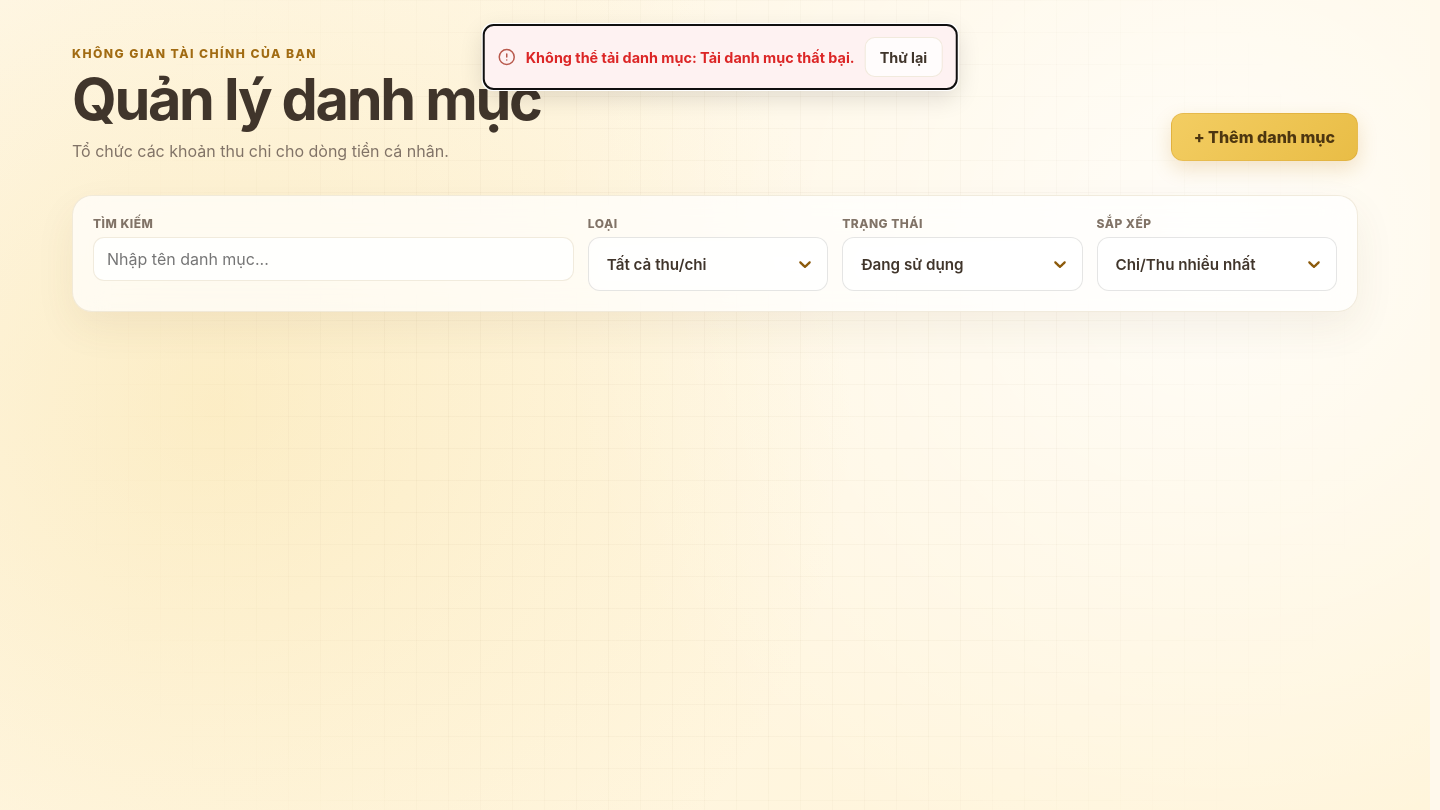
Test: Categories page › retries the category list after an initial loading failure
Expected: the message shows "Tải danh mục thất bại.", x1=700 y1=48 x2=855 y2=66
Step 1. Click the button "Thử lại" → (903, 57), box x1=865 y1=37 x2=942 y2=77
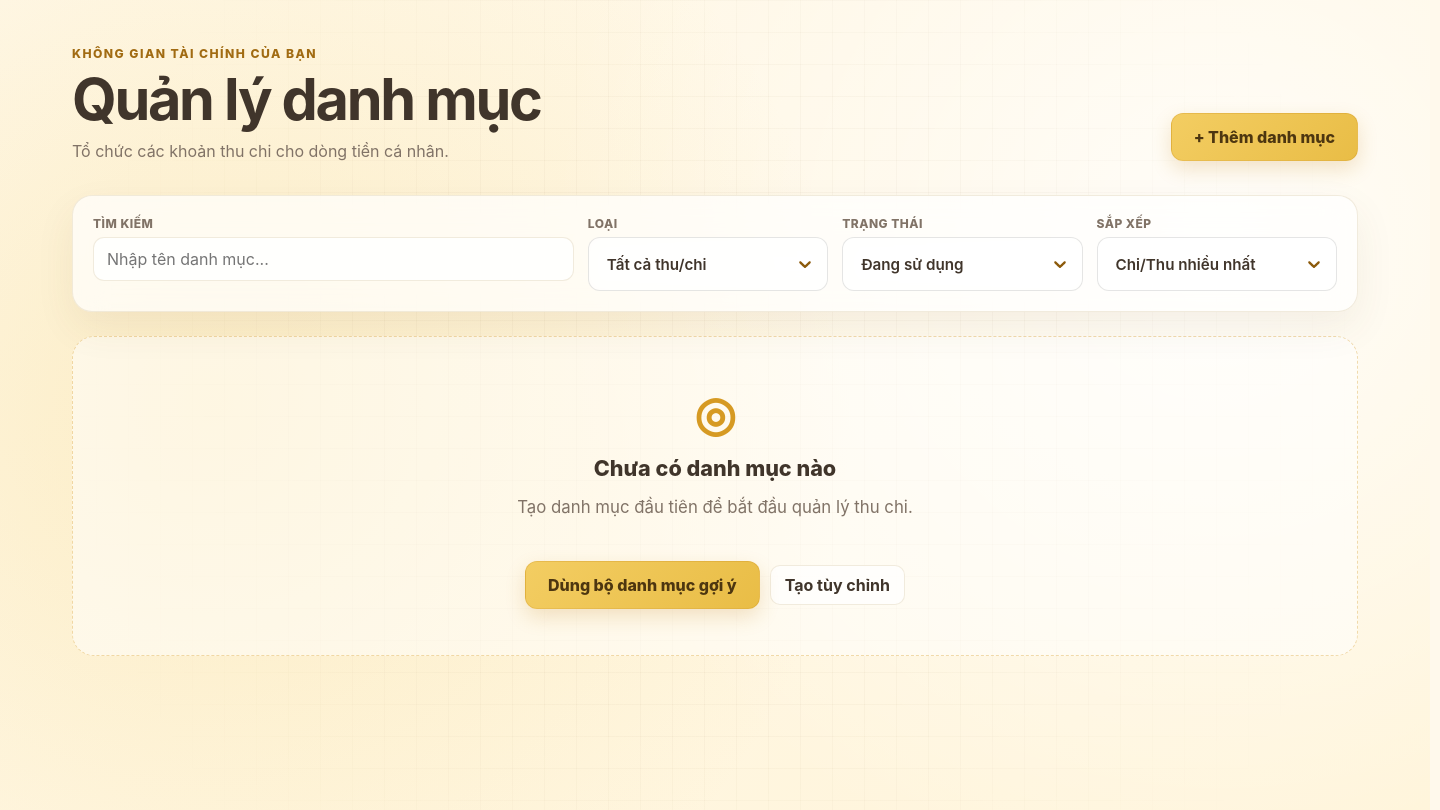
Expected: the heading "Chưa có danh mục nào" is shown, x1=594 y1=455 x2=836 y2=481
